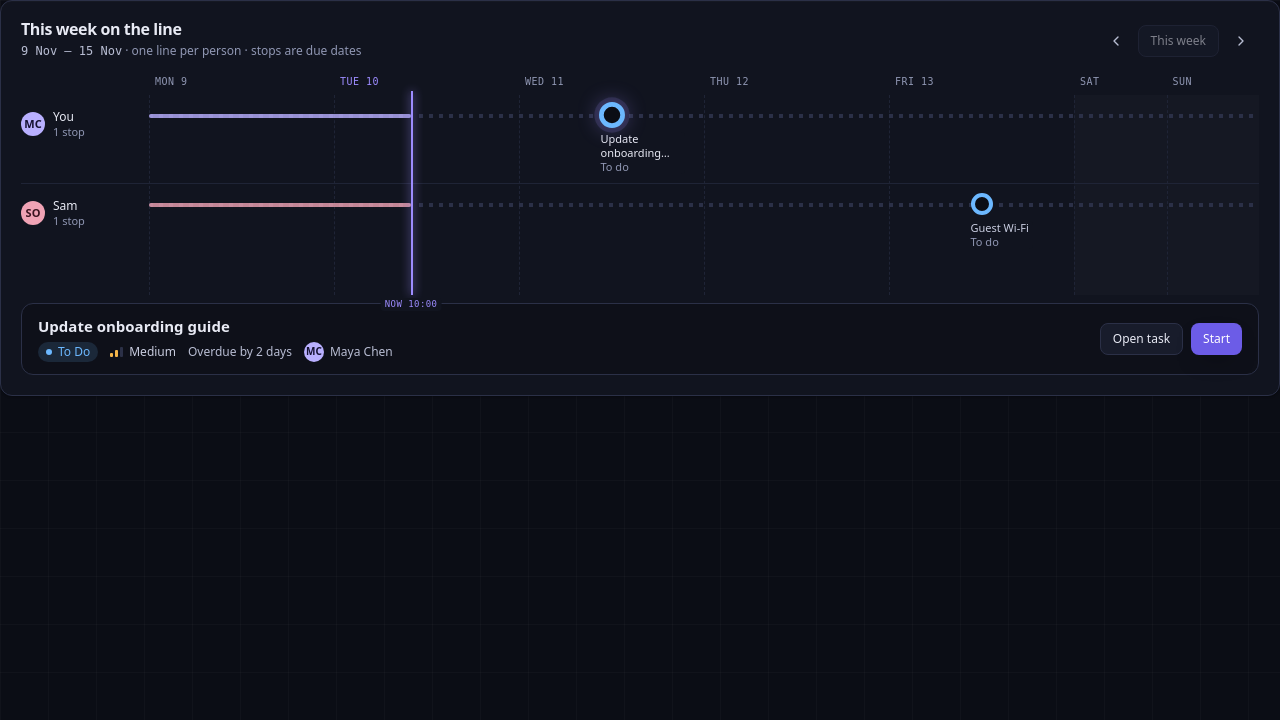
Scenario: WeekLineMap › offers a status action only on tasks the user may move
Click the button "Guest Wi-Fi To do".
click(1002, 221)  # box top-left (970, 193), bottom-right (1033, 249)
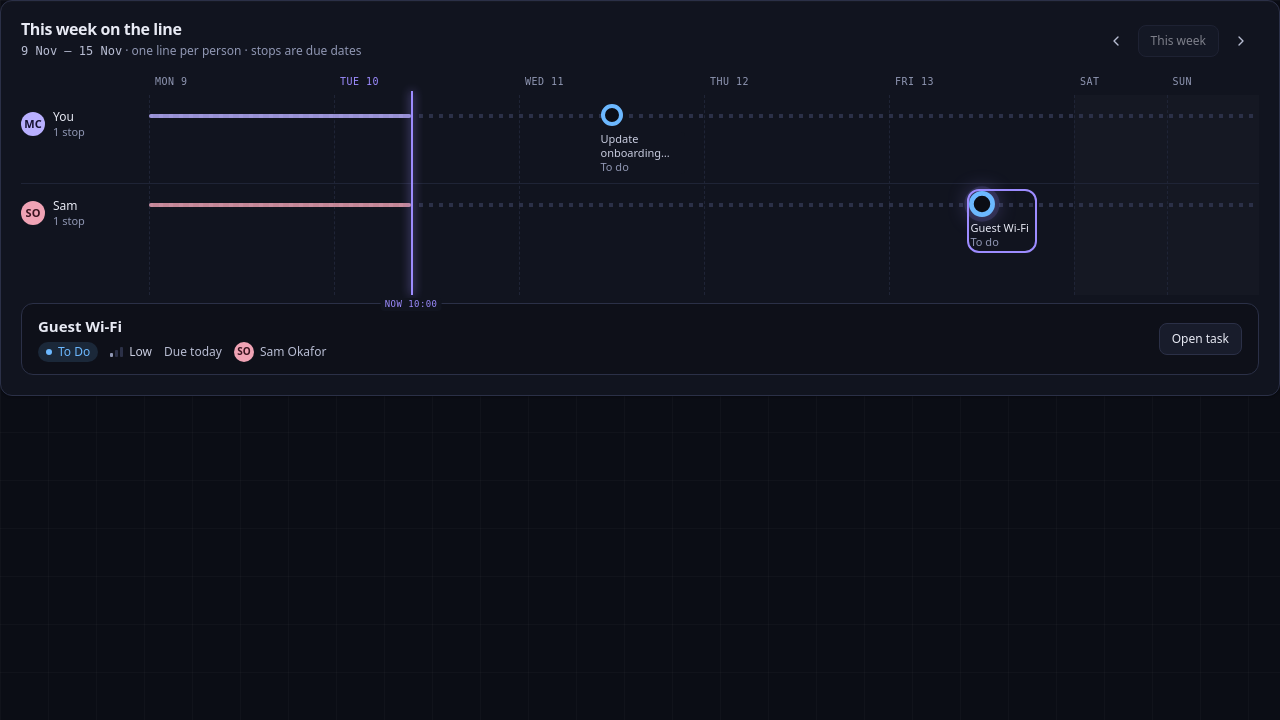
Now the button "Start" is gone
